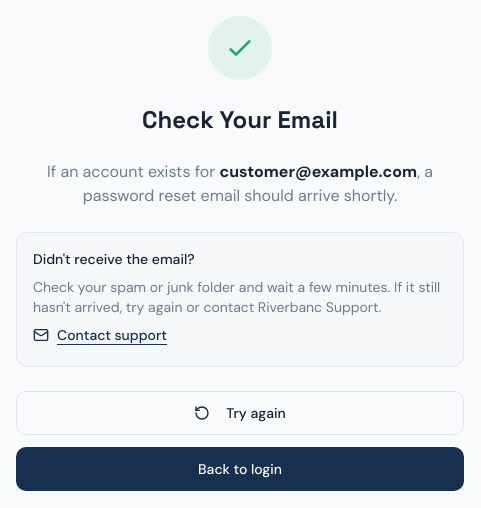
Scenario: ForgotPasswordPage › allows the customer to retry after the generic confirmation
Earlier steps of the test are not shown.
Expected: the heading "Check Your Email" is shown, [142, 104, 338, 134]
Click the button "Try again": (240, 412) [16, 390, 464, 434]
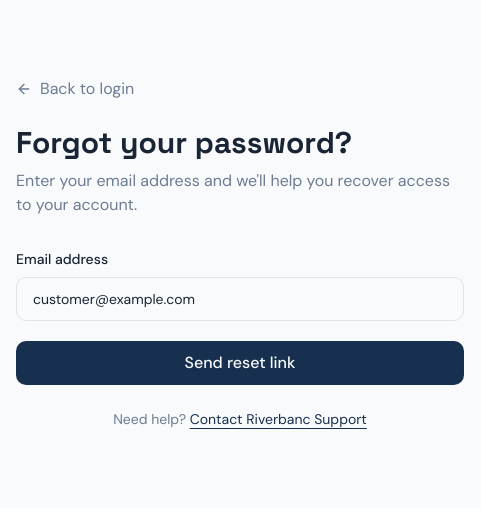
Now the button "Send reset link" is shown, box [16, 341, 464, 385]
Now the field labelled "Email address" holds "customer@example.com", box [16, 277, 464, 321]
